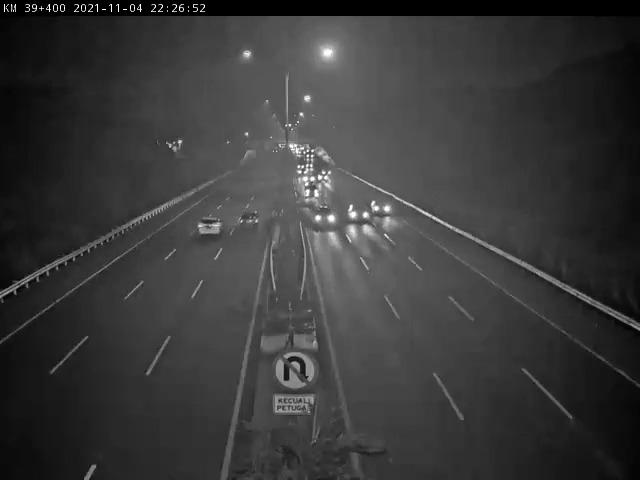car: (312, 204, 337, 230), (345, 197, 370, 222), (196, 215, 224, 237), (237, 210, 263, 232), (371, 194, 392, 217)
